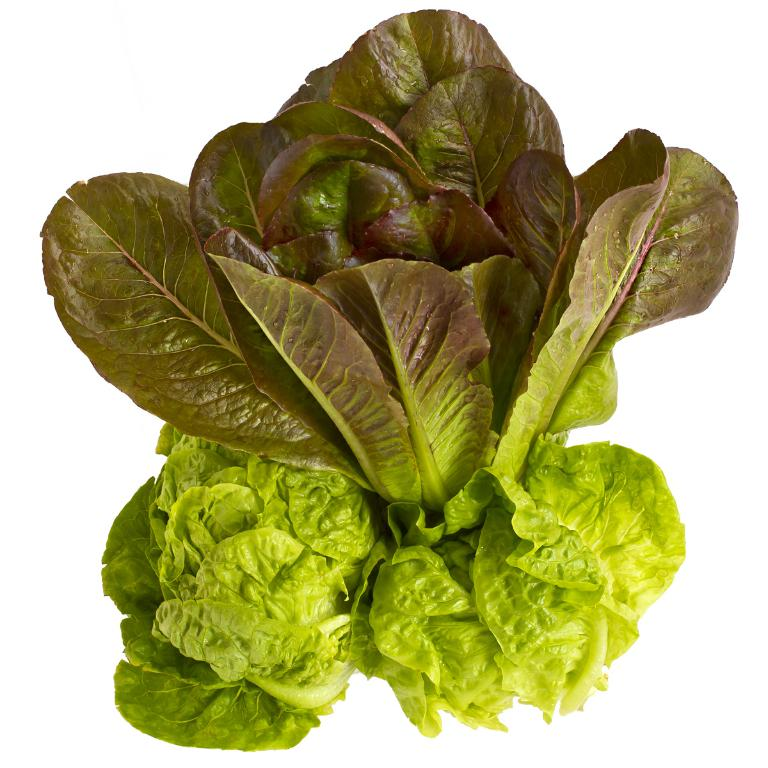Cabbage: (371, 430, 686, 738), (101, 422, 380, 752)
